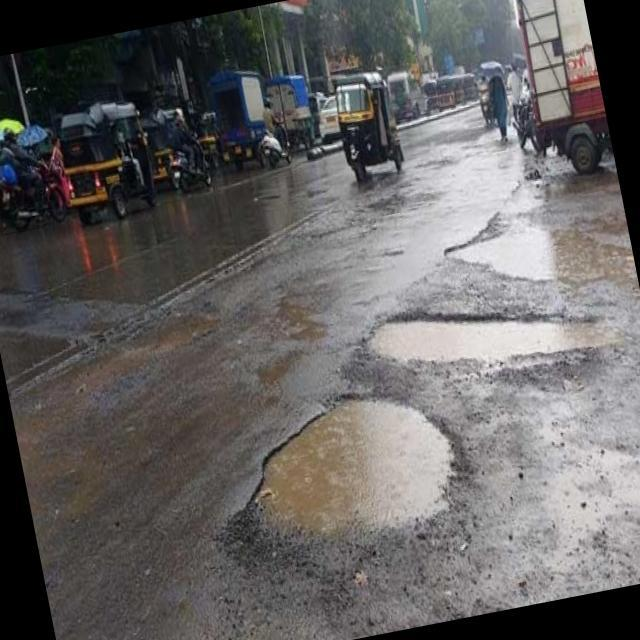Pothole: (242, 392, 484, 569), (372, 284, 614, 390), (442, 210, 592, 302)
